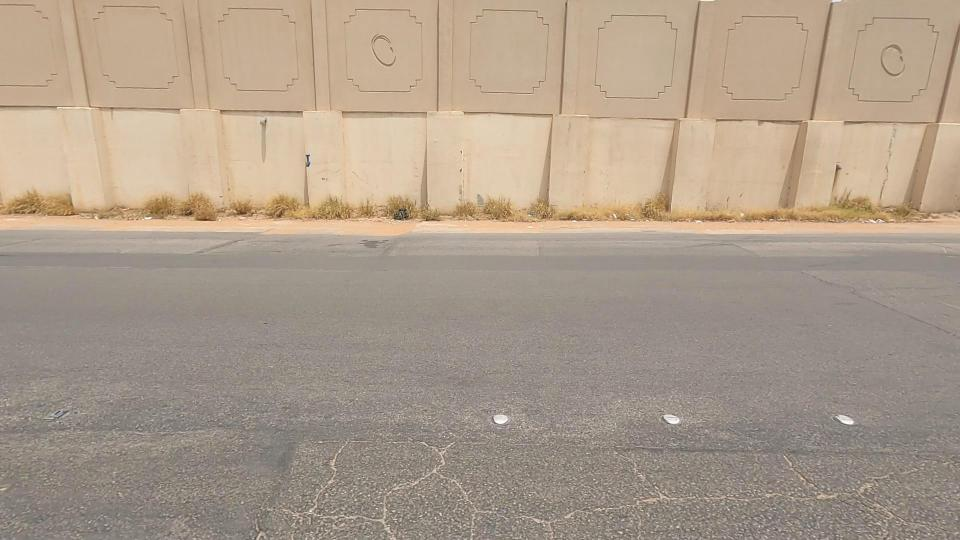GARBAGE: (359, 180, 437, 243)
